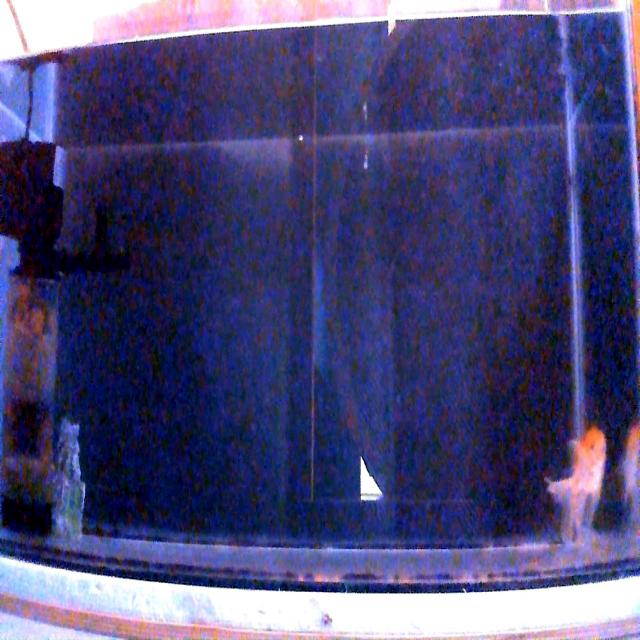fish: (544, 423, 608, 543), (620, 417, 640, 525)
